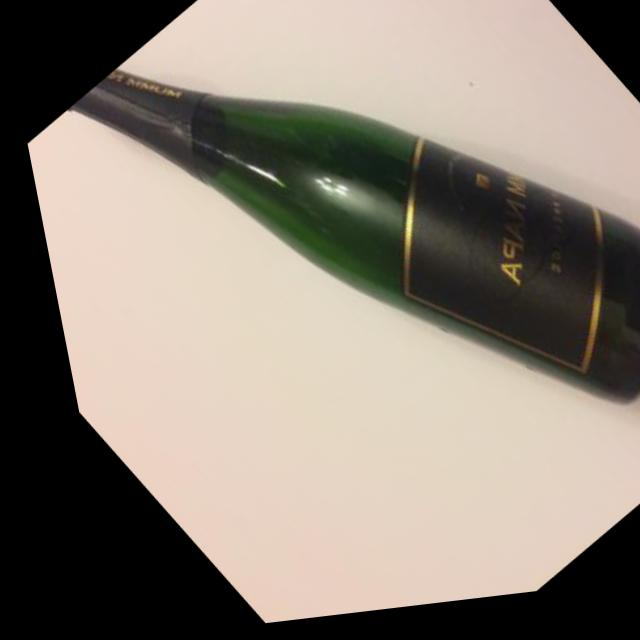glass: (30, 0, 640, 628)
